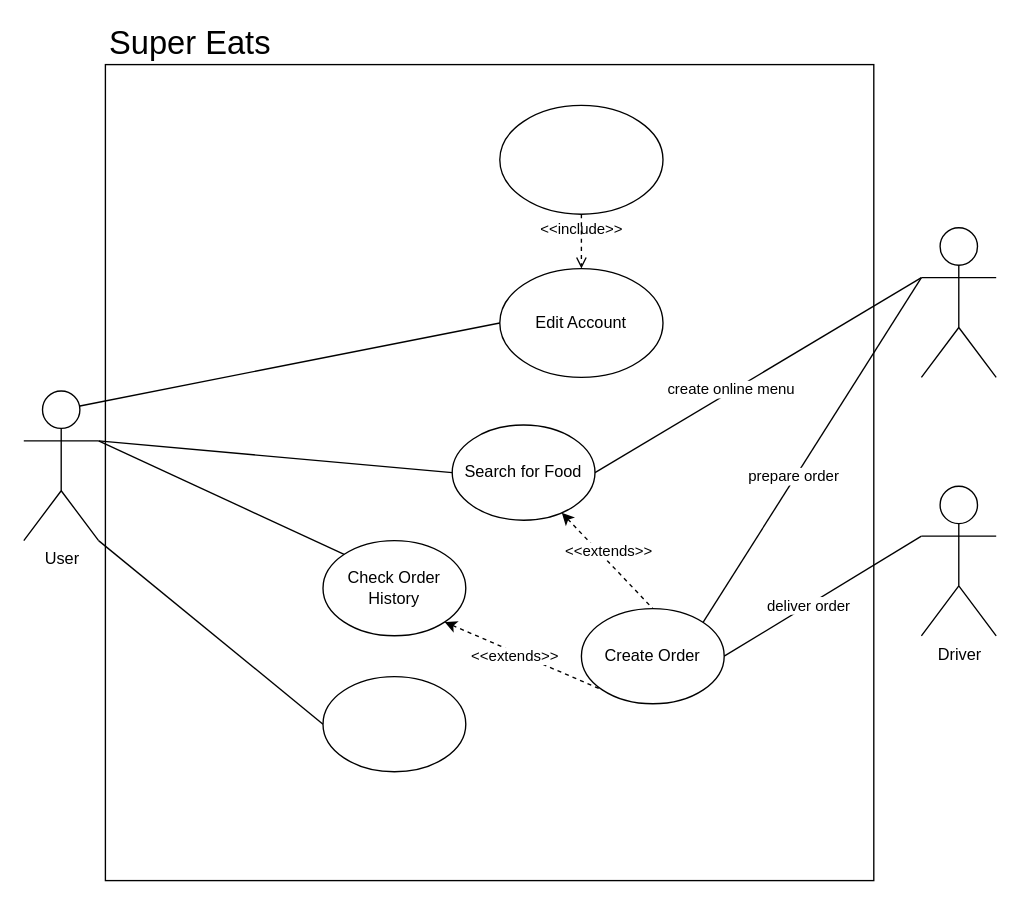
Image size: 1031x904. Some labels were removed from this diagram. Each missing label, with the centre of its shape:
"Add Payment Info" goes at point (580, 159).
"Food Service" goes at point (958, 301).
"View Notifications" goes at point (394, 723).
